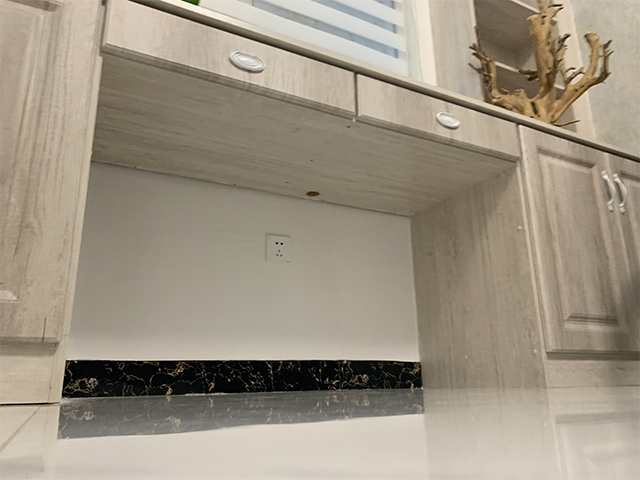cabinet: (396, 80, 640, 403)
